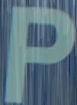Parking: (4, 1, 70, 101)
